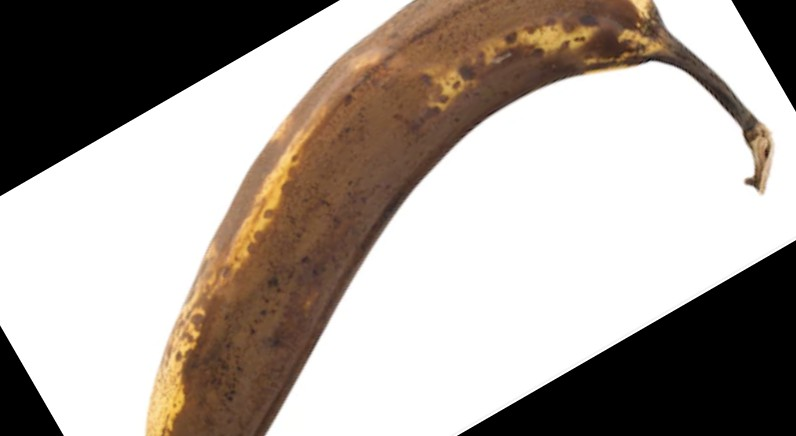rotten_banana: (147, 1, 773, 436)
